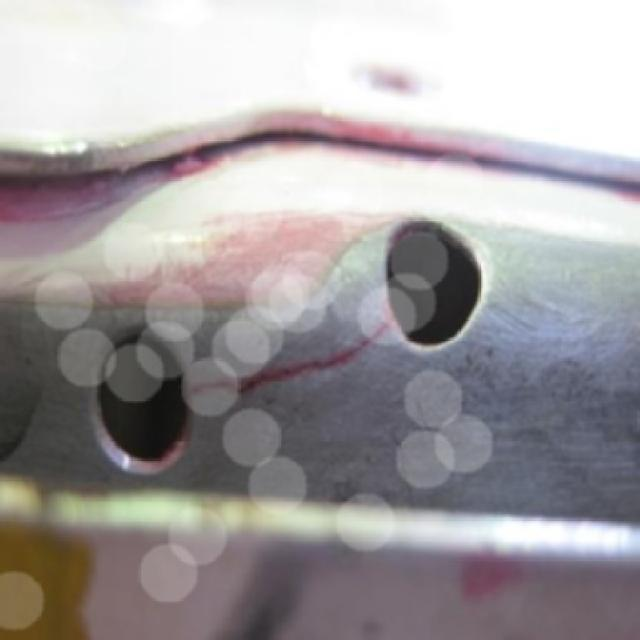crack: (346, 317, 394, 357), (270, 357, 339, 379), (188, 379, 271, 396)
